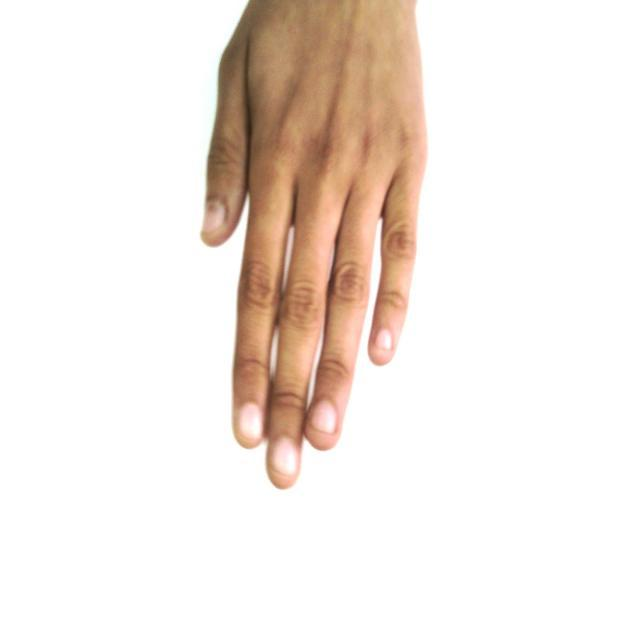Fingernail: (308, 401, 336, 433), (272, 440, 297, 475), (241, 405, 262, 439), (204, 202, 225, 234), (373, 329, 391, 352)
